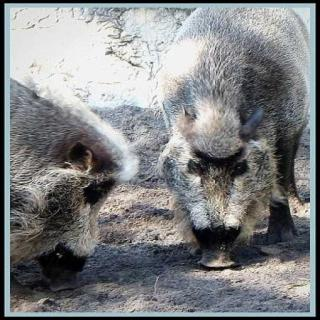Pig: (140, 0, 320, 273), (0, 46, 132, 280)
